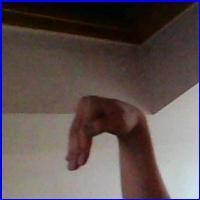A: (59, 89, 145, 178)
